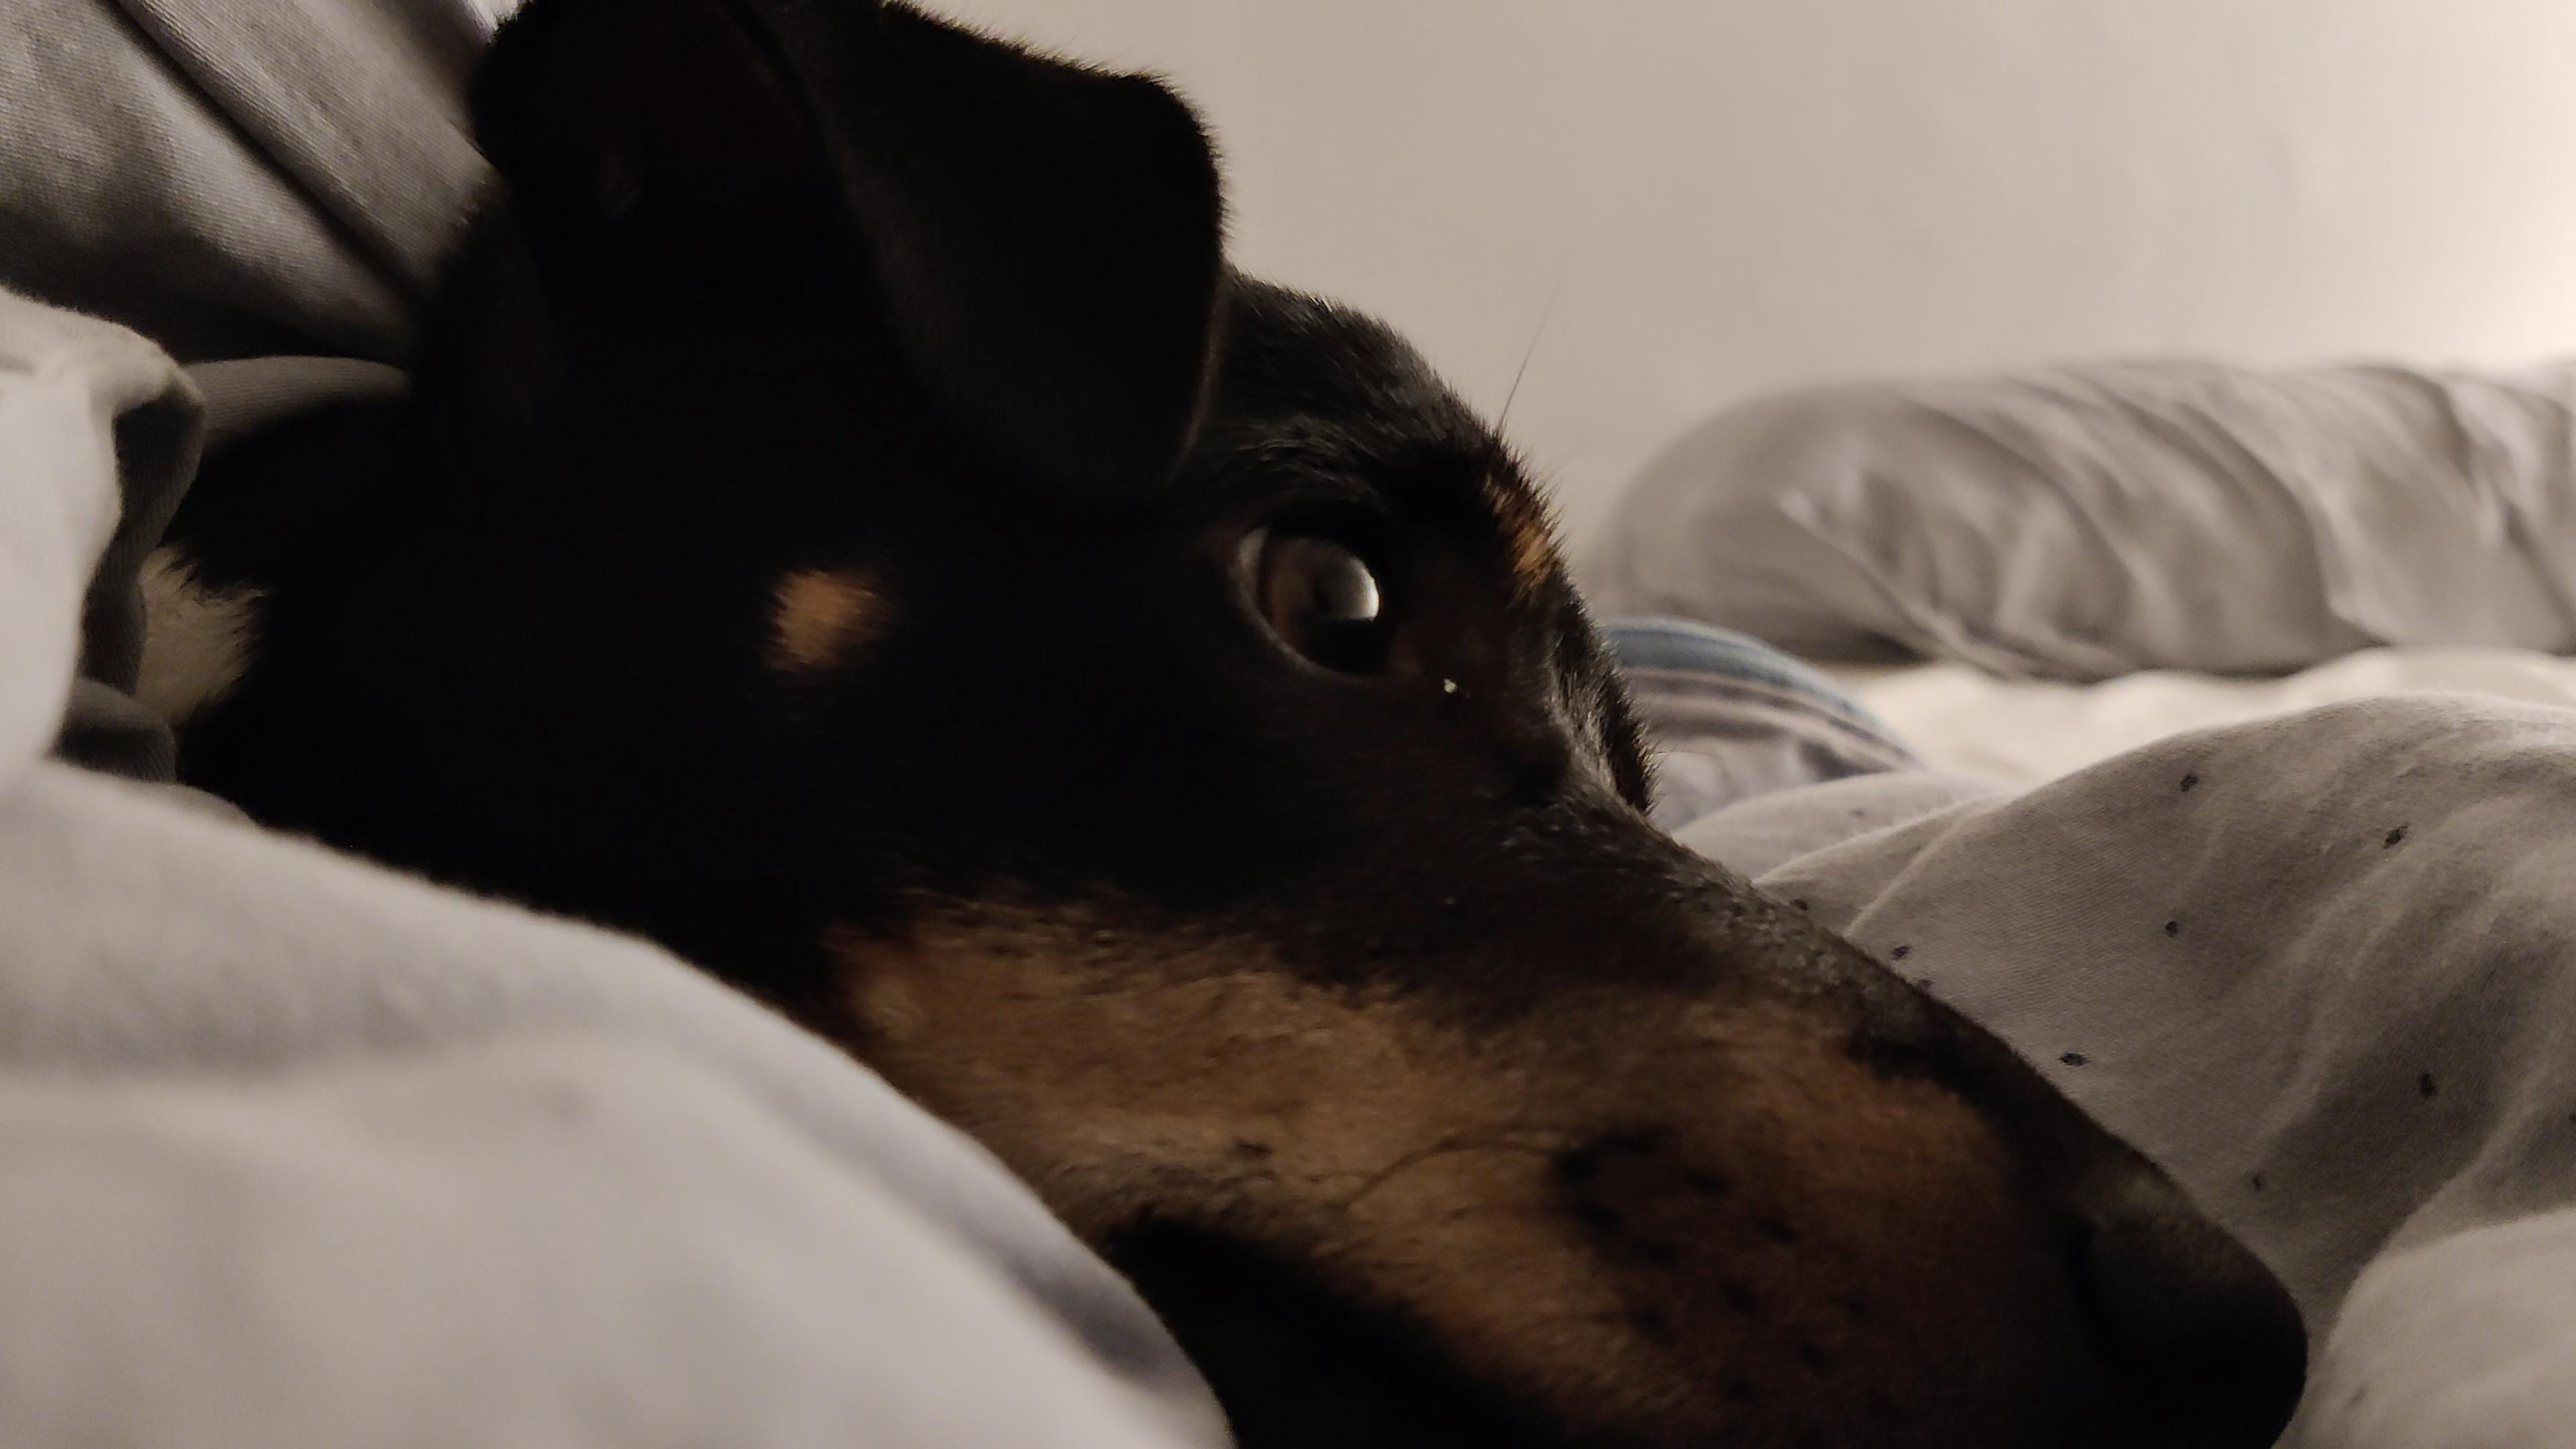Dog: (136, 0, 2321, 1449)
